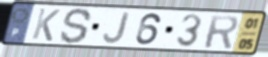3: (175, 12, 204, 49)
6: (135, 12, 163, 47)
J: (102, 12, 132, 45)
K: (30, 7, 62, 43)
R: (203, 14, 240, 50)
S: (58, 7, 95, 46)
